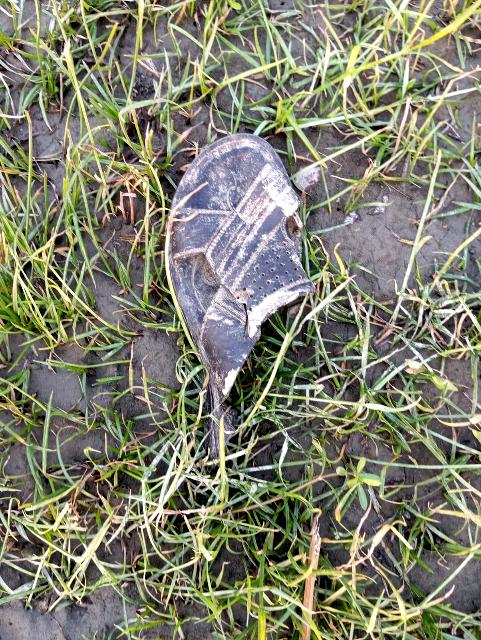sandal: (116, 102, 364, 430)
